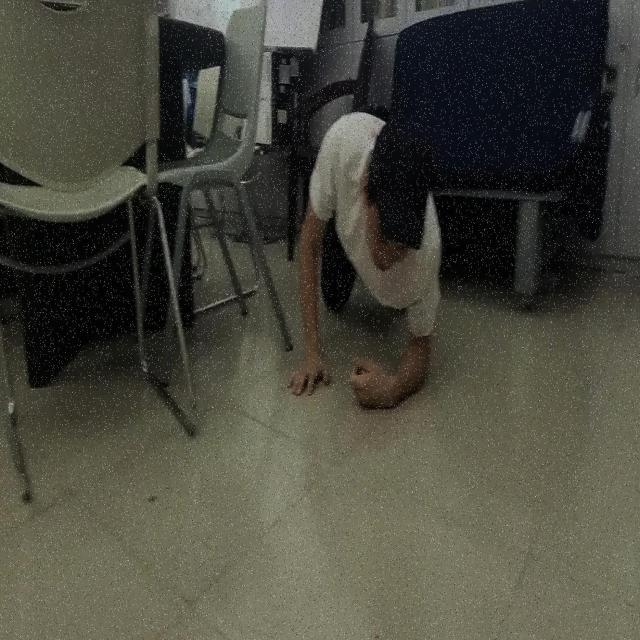fall: (282, 106, 445, 420)
